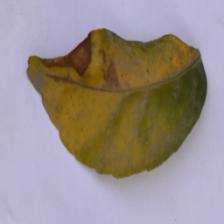greening: (101, 33, 183, 171)
